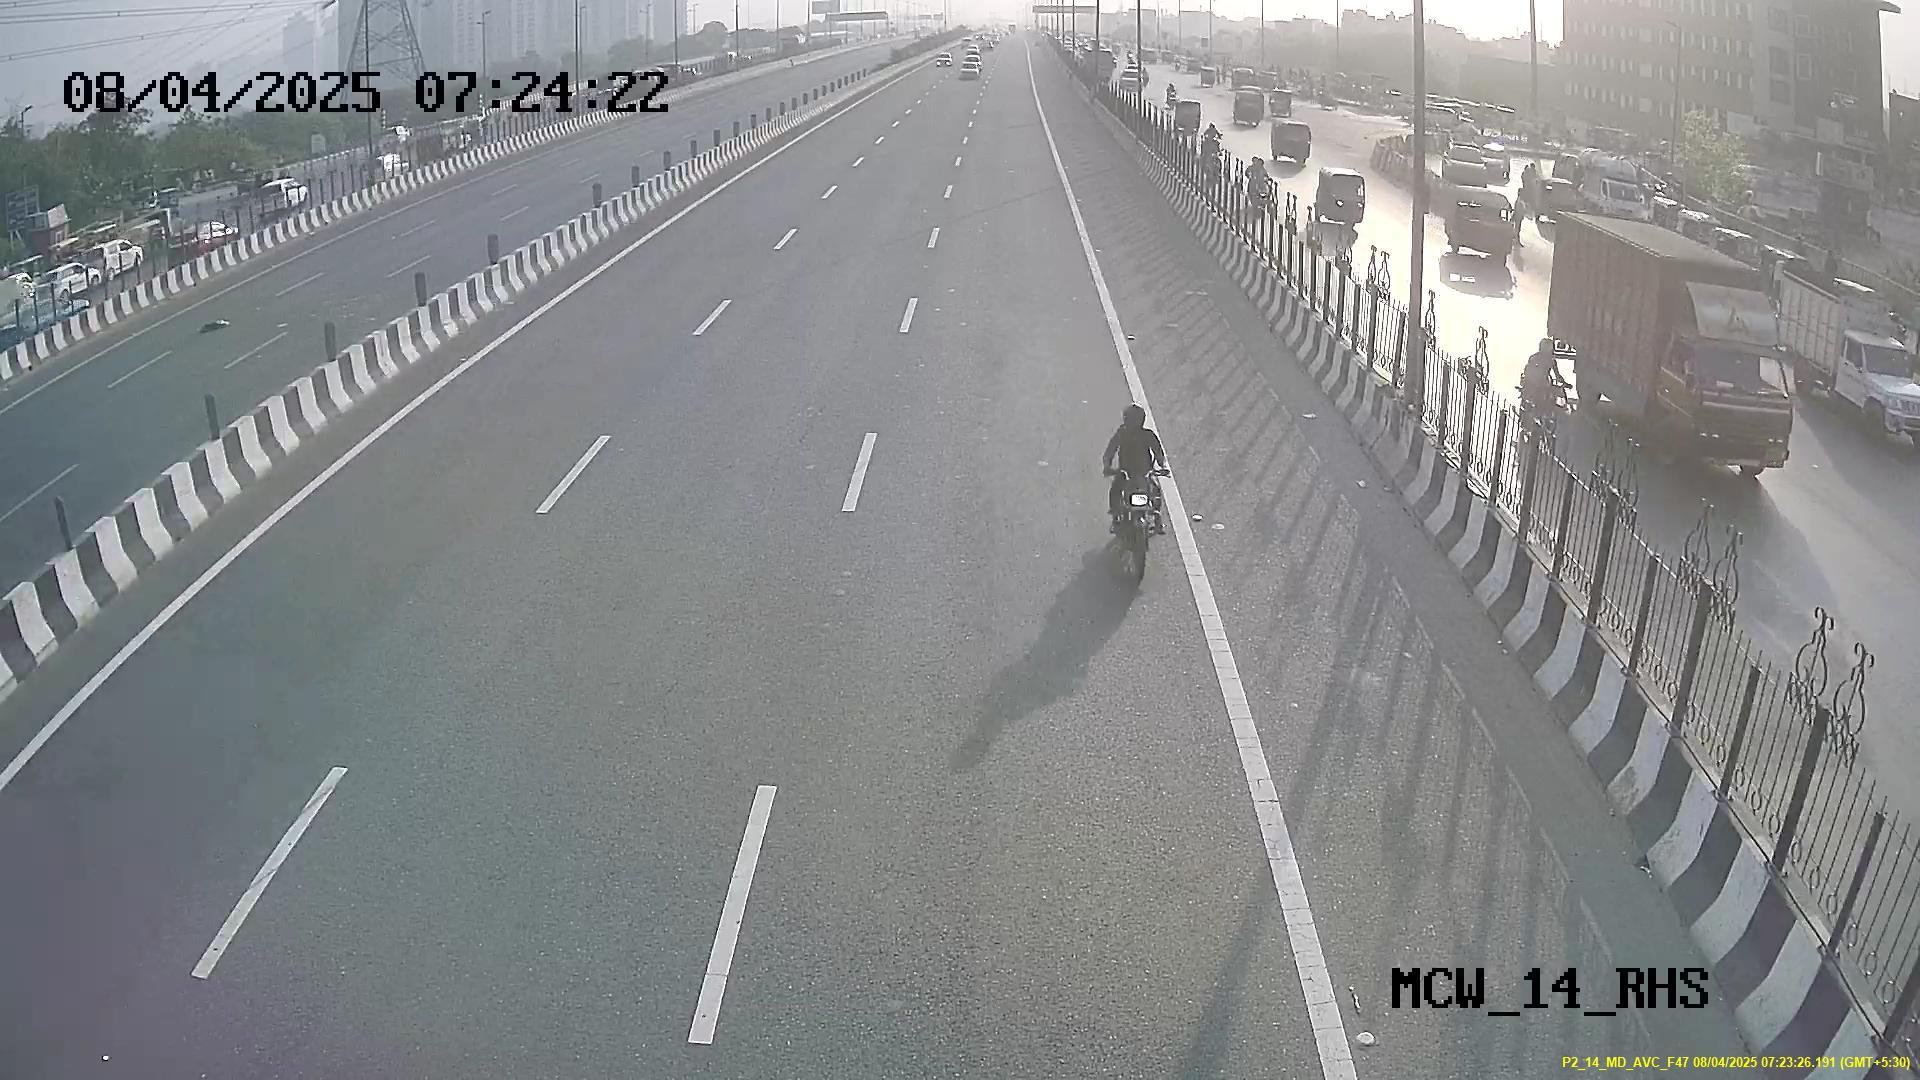bike: (1102, 402, 1171, 582)
